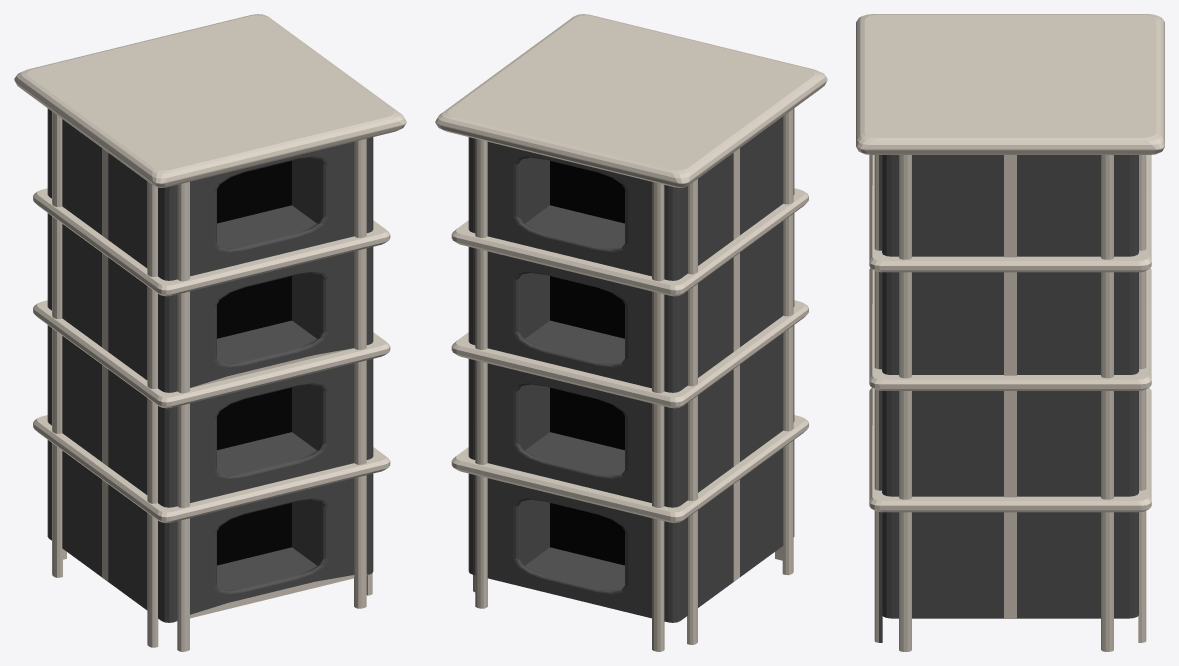
Rendered from Briket_İnşaat.fbx.
The picture shows the model from 3 angles, left to right: view 1: azimuth 30°, elevation 25°; view 2: azimuth 150°, elevation 25°; view 3: azimuth 270°, elevation 25°; orthographic projection. The views are drawn at different scales.
Visible parts, largest first — view 1: Cube.001; view 2: Cube.001; view 3: Cube.001.
Boxes of the visible parts, <box> form: Cube.001: <box>14,14,406,651</box>; Cube.001: <box>435,14,827,651</box>; Cube.001: <box>856,14,1164,651</box>.
Size of the model in its own units: 88.34 by 164 by 88.34.
